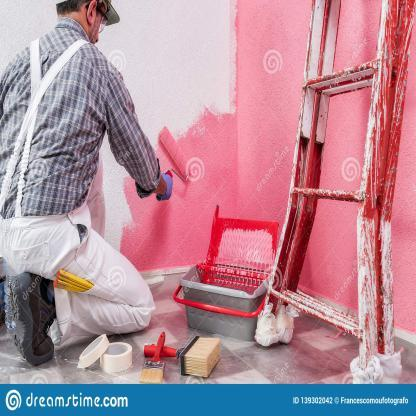bota: (2, 270, 58, 368)
